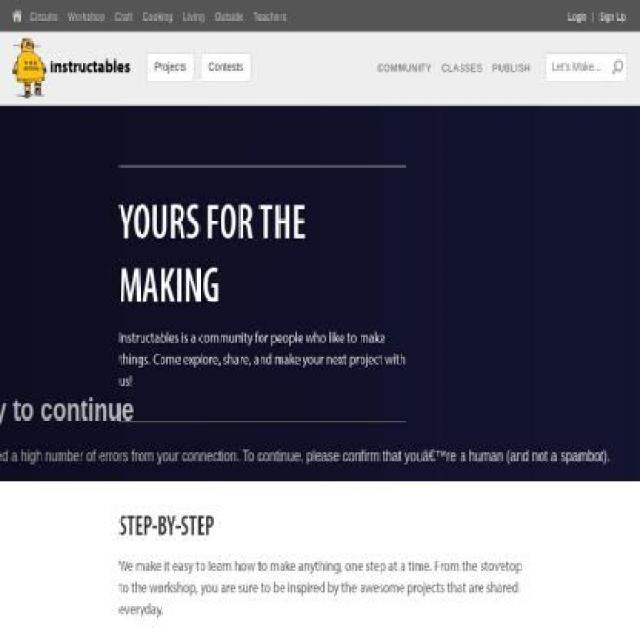button: (12, 38, 143, 98), (199, 52, 252, 82), (146, 52, 194, 82)
field: (544, 52, 628, 82)
